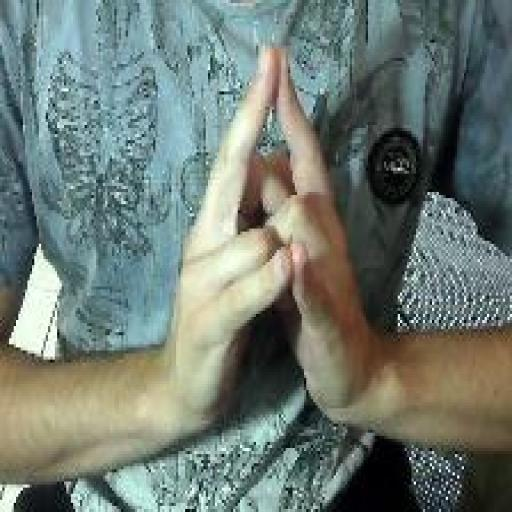Tori -bird-: (157, 33, 378, 439)
